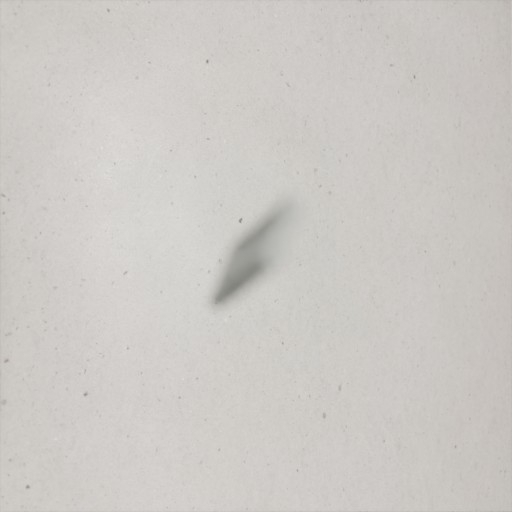lego: (207, 192, 304, 311)
